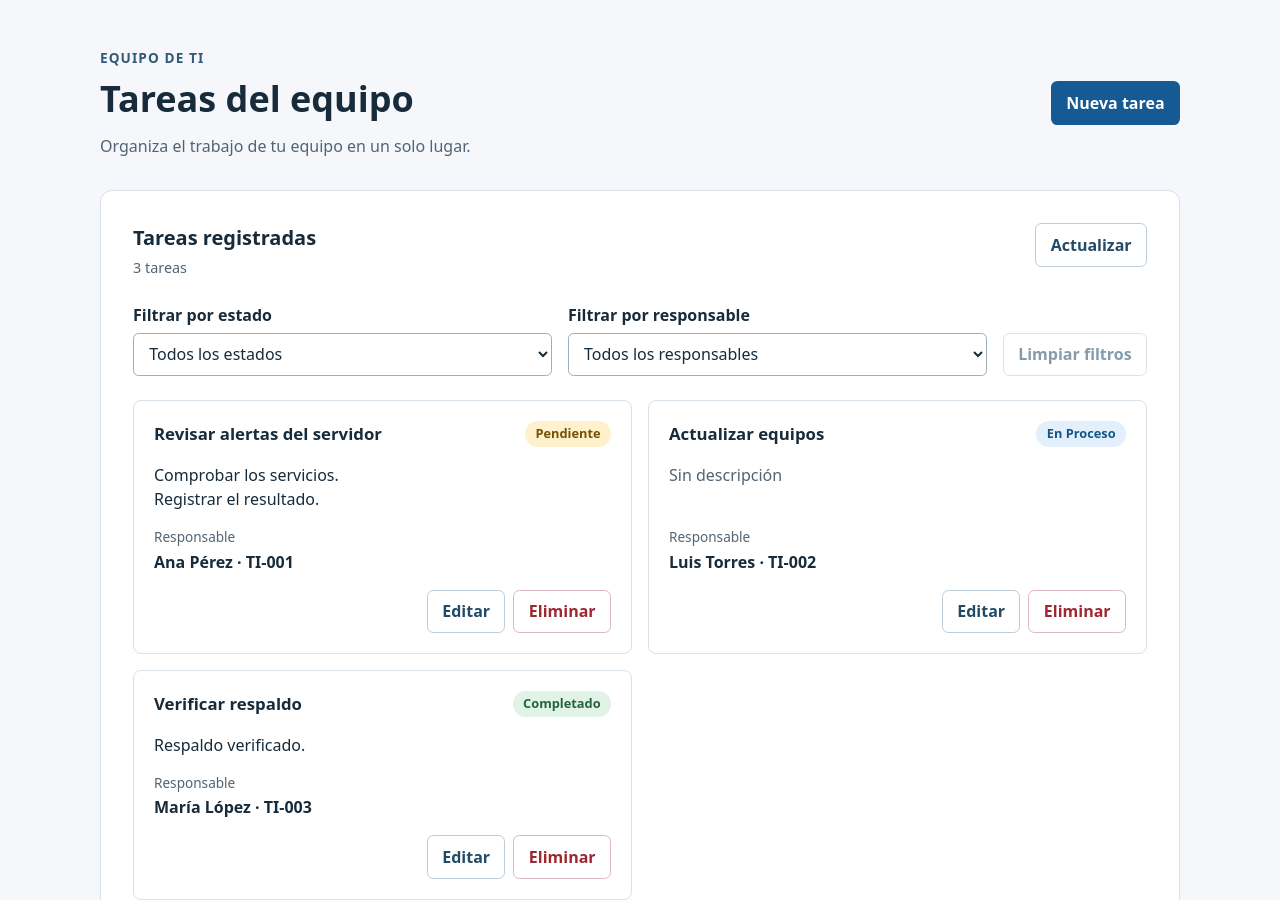
Filtros de estado y responsable › limpia ambos criterios y recupera todas las tareas en su orden original
This screenshot has width=1280, height=900.
Expected: the list named "Tareas registradas" is shown, left=133, top=400, right=1147, bottom=899
Select "En Proceso" in the dropdown labelled "Filtrar por estado" at (342,354), box left=133, top=333, right=552, bottom=376
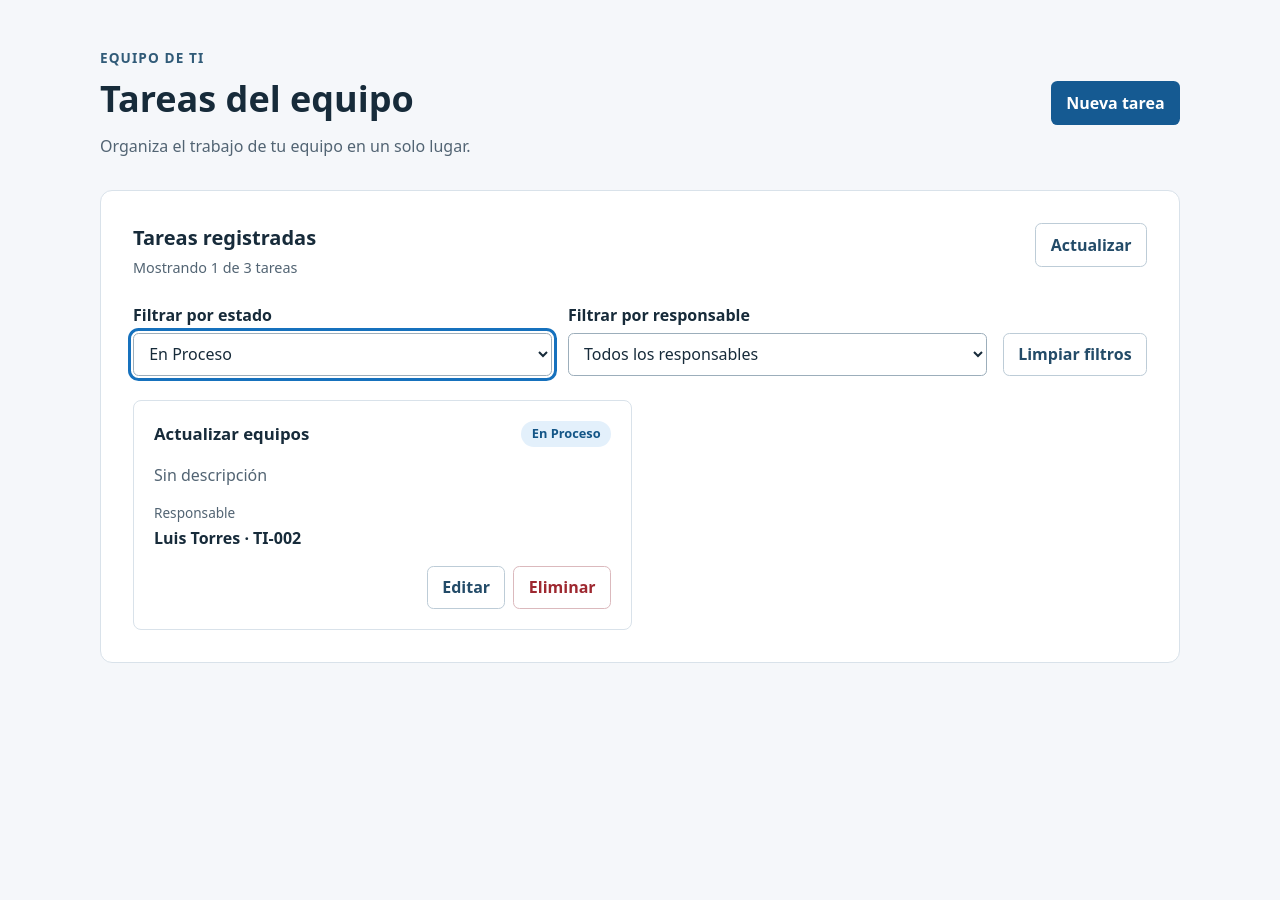
Select "Luis Torres · TI-002" in the dropdown labelled "Filtrar por responsable" at (777,354), box left=568, top=333, right=987, bottom=376
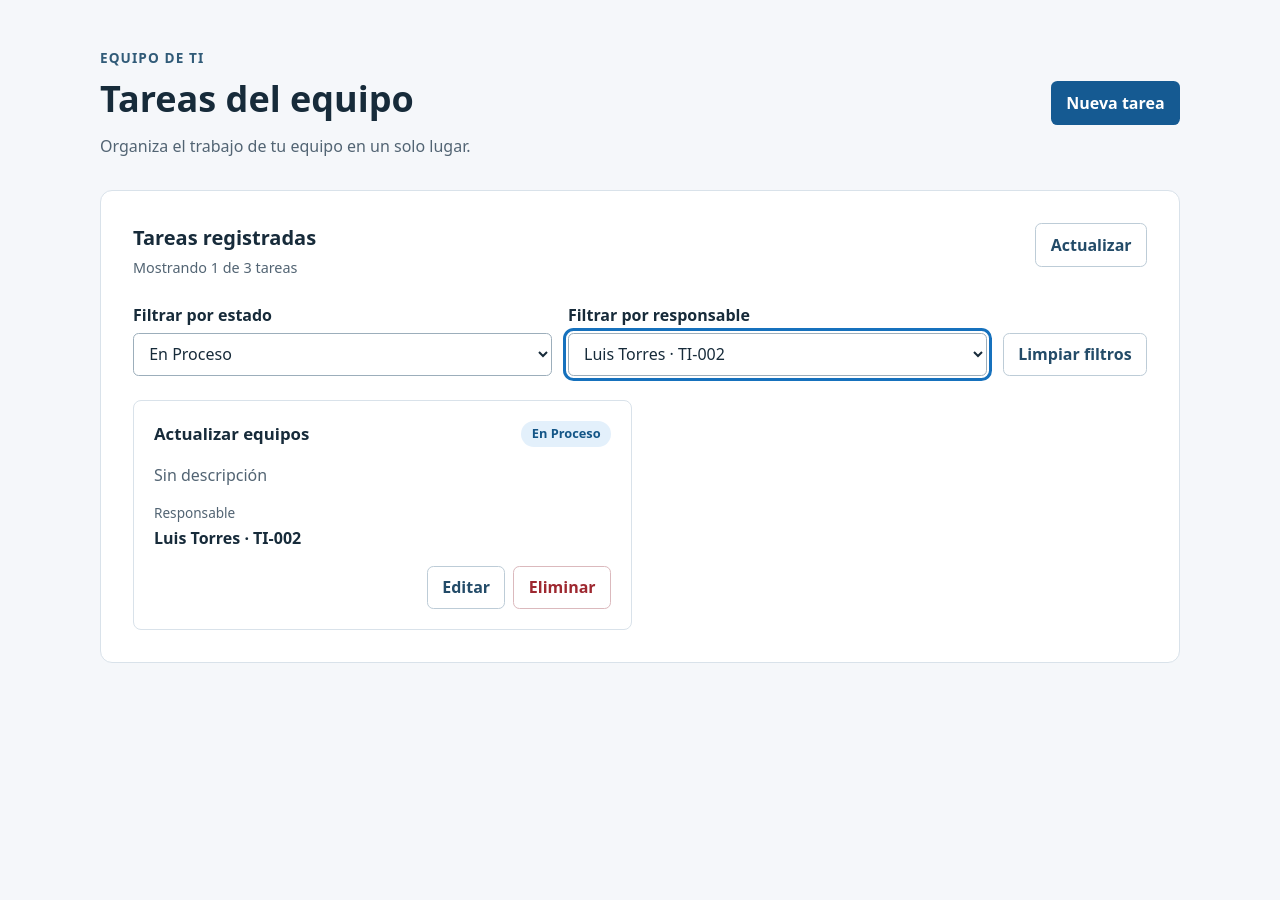
Click the button "Limpiar filtros" at (1075,354), box left=1003, top=333, right=1147, bottom=376
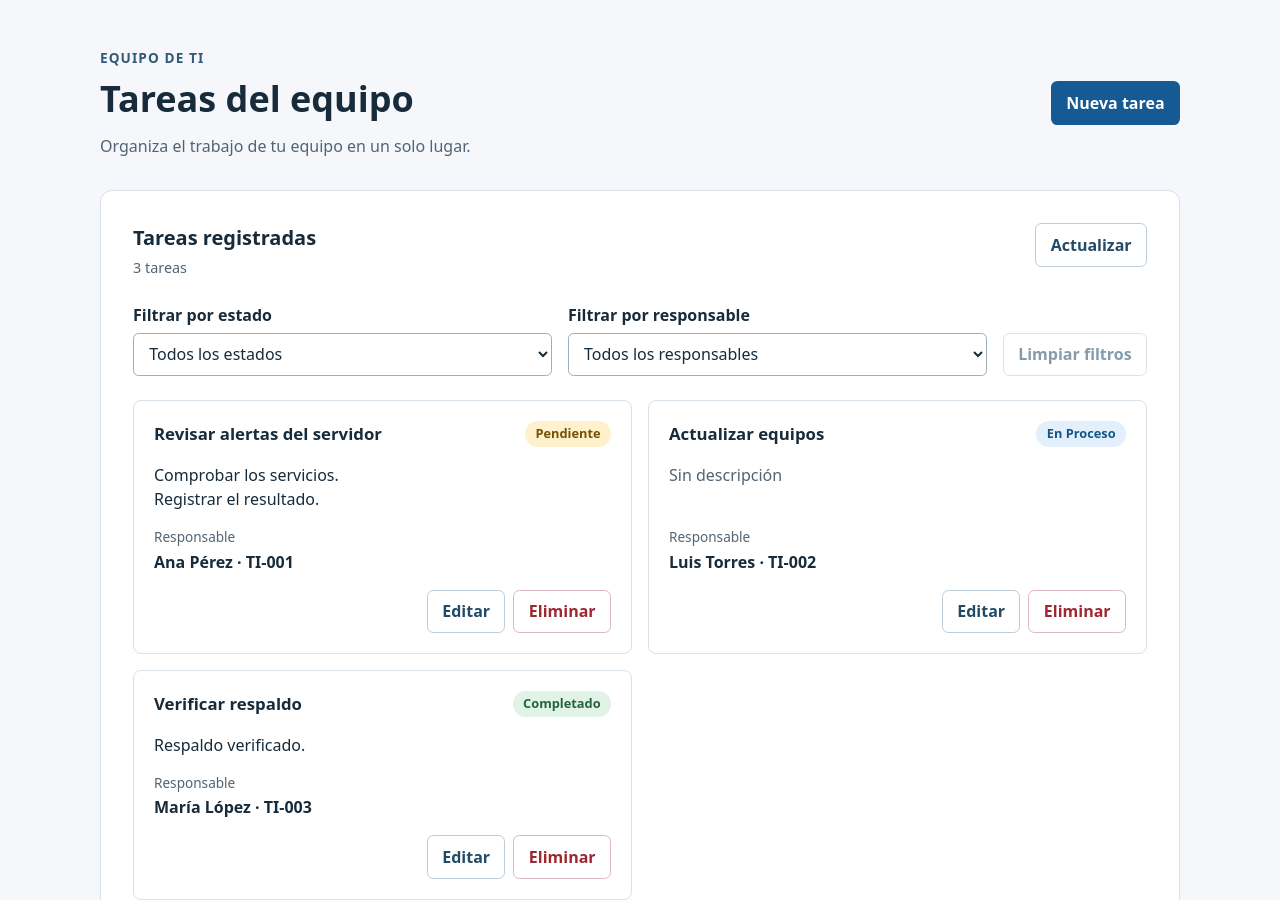
Result: the message reads "3 tareas" at left=133, top=258, right=187, bottom=277
Result: the button "Limpiar filtros" is disabled at left=1003, top=333, right=1147, bottom=376
